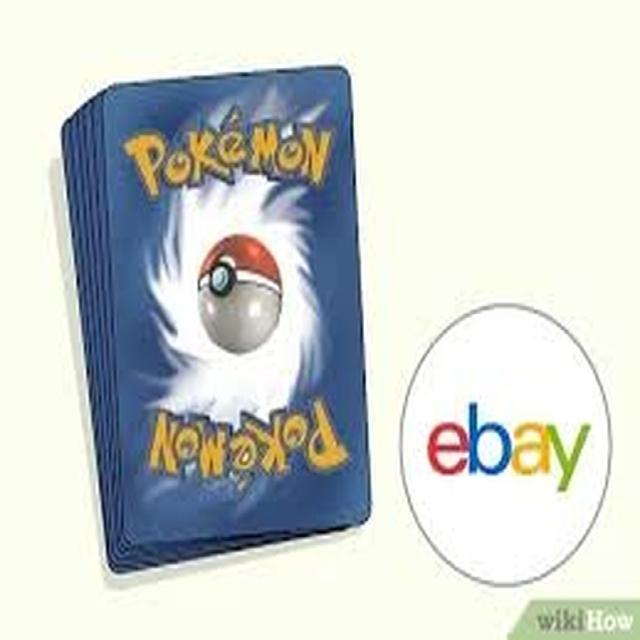card: (52, 64, 359, 584)
